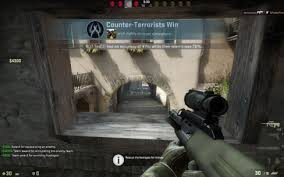gun: (165, 89, 270, 175)
